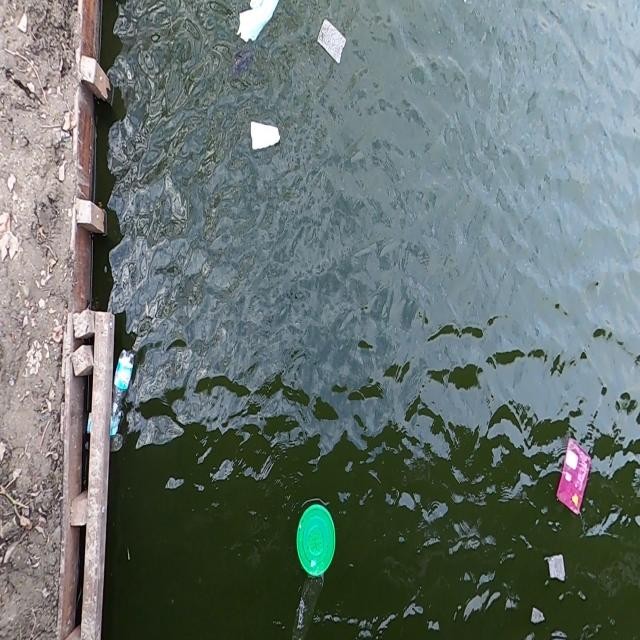Autre plastique: (292, 498, 337, 588), (554, 436, 594, 516)
Sac plastique: (233, 0, 281, 47)
